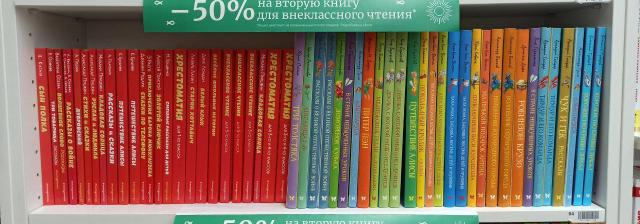book-s-spine: (583, 28, 606, 205), (554, 28, 575, 206), (574, 27, 595, 205), (498, 28, 517, 207), (565, 28, 584, 206), (511, 30, 530, 207), (287, 32, 306, 208), (307, 32, 326, 208), (357, 33, 376, 207), (389, 33, 408, 207), (261, 49, 282, 203), (486, 29, 504, 207), (523, 28, 541, 206), (533, 28, 551, 206), (543, 28, 561, 206), (297, 32, 315, 208), (319, 32, 337, 208), (328, 33, 346, 208), (338, 32, 356, 207), (379, 32, 396, 208), (35, 48, 54, 205), (276, 50, 295, 202), (444, 31, 460, 207), (456, 31, 472, 207), (370, 32, 385, 208), (349, 32, 364, 207), (405, 32, 420, 207), (468, 29, 482, 207), (477, 30, 491, 207), (434, 32, 448, 206), (47, 49, 62, 205), (54, 49, 69, 205), (63, 49, 78, 205), (172, 49, 187, 204), (195, 49, 210, 203), (426, 32, 439, 207), (104, 49, 118, 205), (417, 32, 429, 207), (116, 49, 129, 205), (185, 49, 198, 203), (208, 49, 221, 203), (243, 49, 256, 203), (220, 50, 233, 203), (73, 49, 85, 205), (128, 49, 140, 205), (81, 50, 93, 205), (233, 49, 245, 203), (254, 50, 266, 203), (89, 49, 100, 205), (97, 49, 107, 205), (163, 50, 173, 204), (155, 49, 163, 204), (140, 50, 147, 204), (147, 49, 153, 204)
